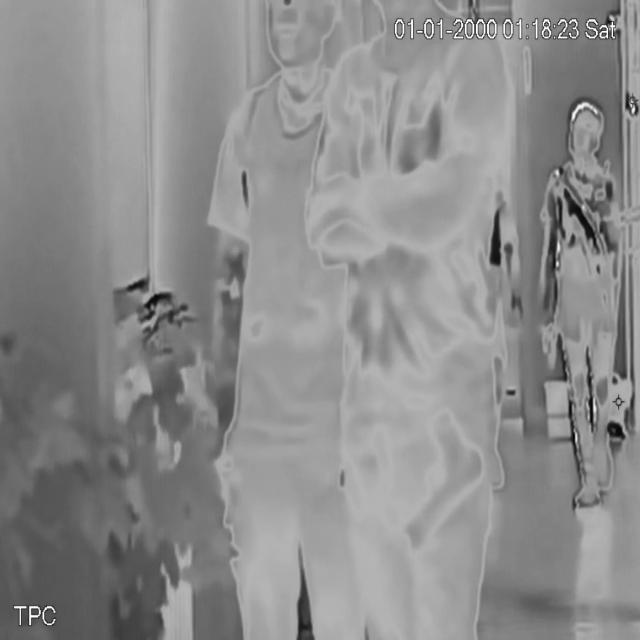Weapon: (389, 400, 488, 558)
